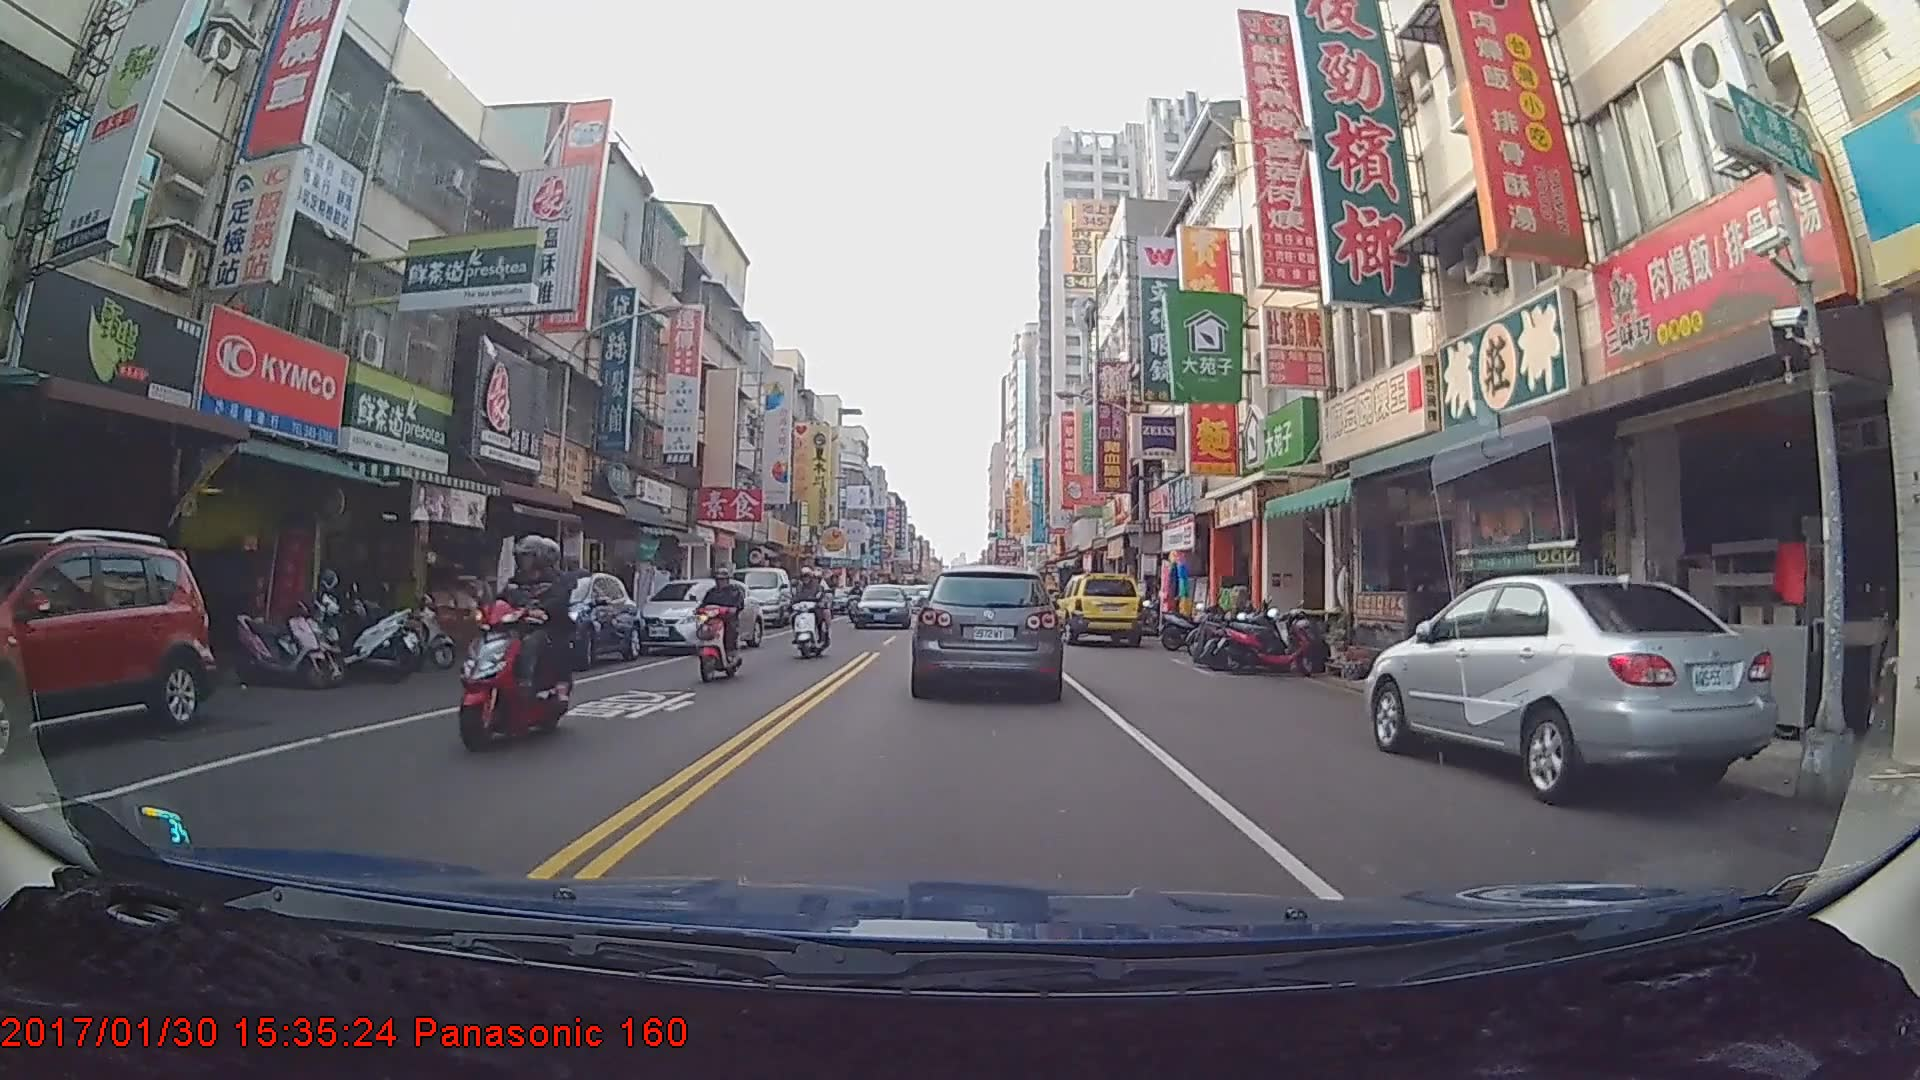rider: (456, 542, 574, 751), (694, 569, 748, 687), (783, 568, 833, 661)
vehicle: (1362, 570, 1779, 802), (0, 532, 215, 749), (912, 563, 1060, 698), (472, 569, 642, 672), (629, 575, 762, 653), (1054, 571, 1142, 645), (728, 565, 791, 626), (847, 582, 912, 629)
